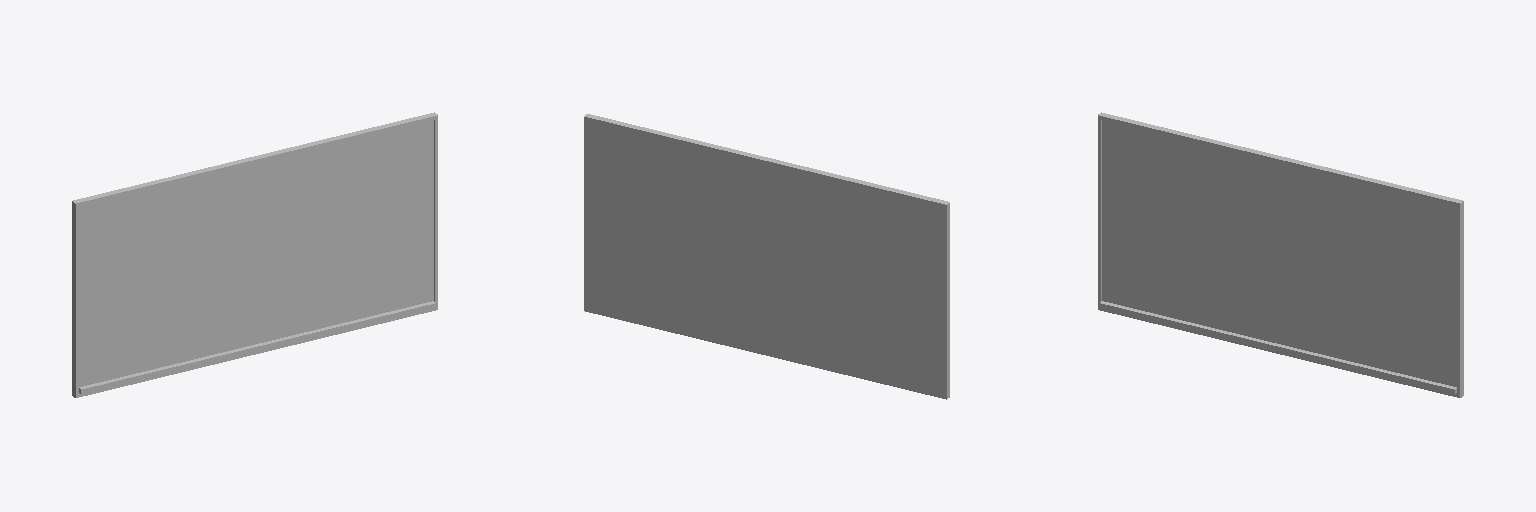
The model's file is WhiteBoard.obj.
The picture shows the model from 3 angles: view 1: azimuth 30°, elevation 25°; view 2: azimuth 150°, elevation 25°; view 3: azimuth 330°, elevation 25°; orthographic projection.
Visible parts, largest first — view 1: WhiteBoard1; view 2: WhiteBoard1; view 3: WhiteBoard1.
Part boxes in pixels (x1,y1,x2,y2): WhiteBoard1: (72,112,437,397); WhiteBoard1: (584,114,949,399); WhiteBoard1: (1098,112,1463,397).
Size of the model in its own units: 15.98 by 8.19 by 0.4258.